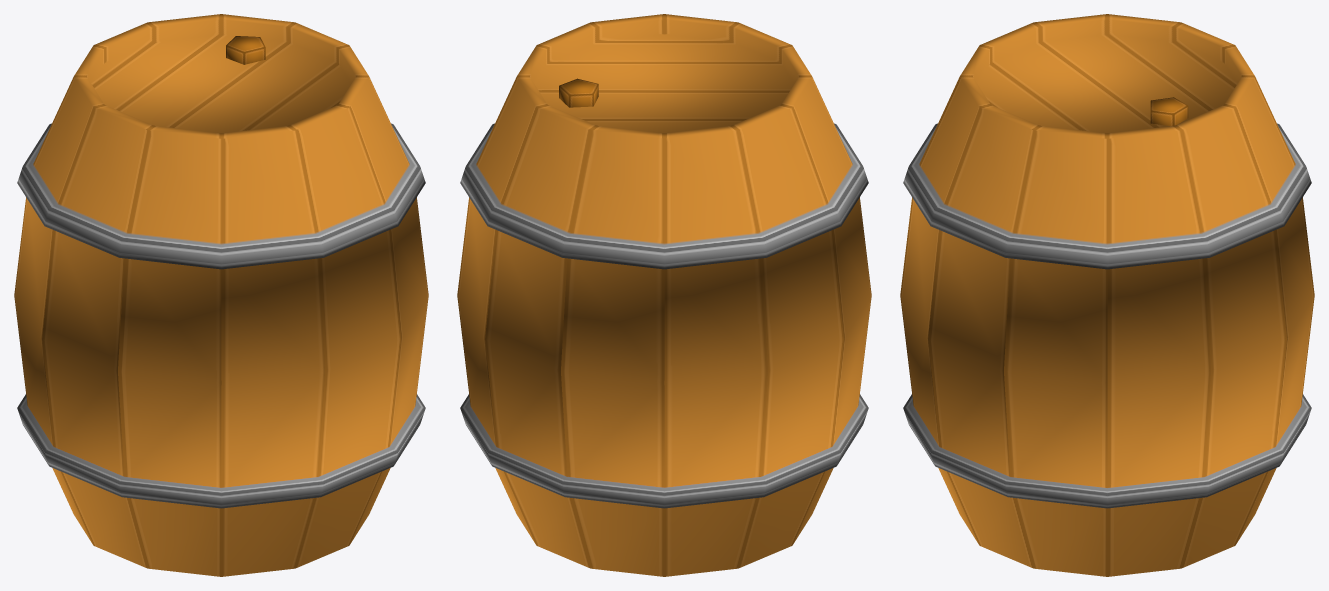
The model's file is bochka.glb.
The picture shows the model from 3 angles, left to right: view 1: azimuth 30°, elevation 25°; view 2: azimuth 150°, elevation 25°; view 3: azimuth 270°, elevation 25°; orthographic projection.
Visible parts, largest first — view 1: Цилиндр; view 2: Цилиндр; view 3: Цилиндр.
Part boxes in pixels (x1,y1,x2,y2): Цилиндр: (14, 14, 428, 576); Цилиндр: (457, 14, 871, 576); Цилиндр: (900, 14, 1314, 576).
Size of the model in its own units: 0.7717 by 0.9 by 0.7717.
Materials: 1 (1 with a texture image).
